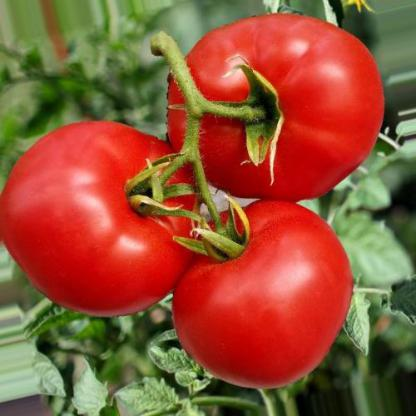tomato: (164, 0, 408, 204), (0, 108, 195, 316), (174, 186, 360, 398)
